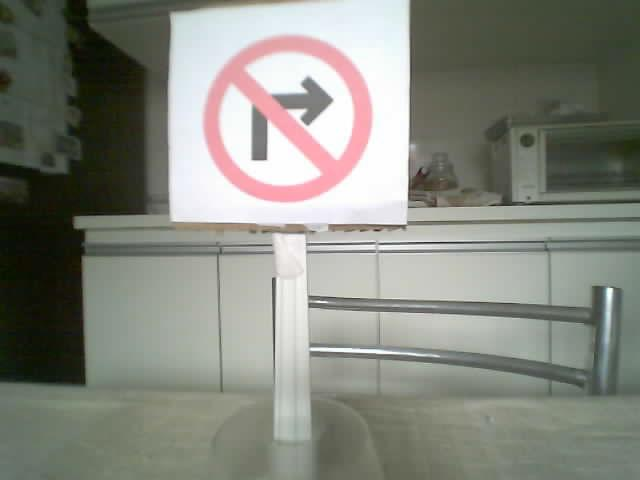R-4b_proibido-direita: (202, 33, 374, 203)
